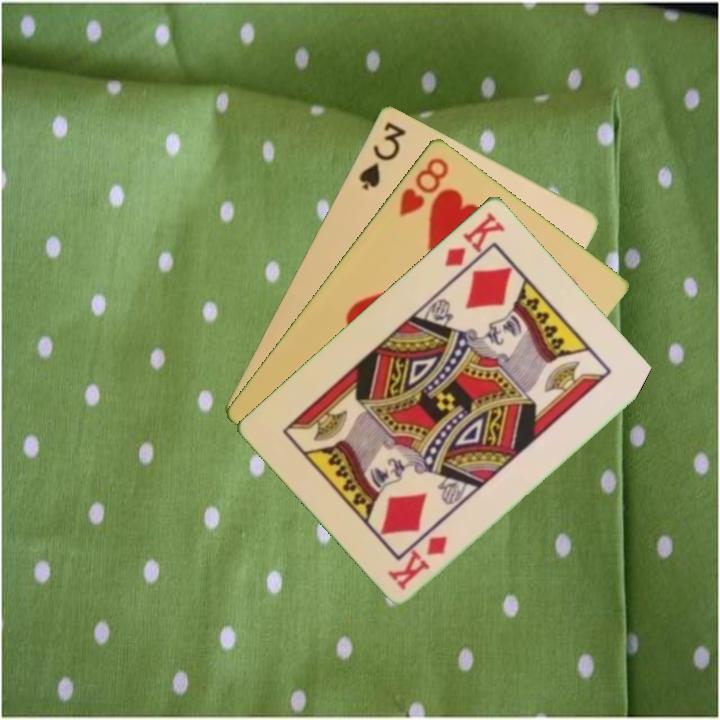3s: (354, 117, 409, 193)
8h: (395, 153, 452, 219)
Kd: (440, 208, 508, 270), (385, 531, 451, 593)
